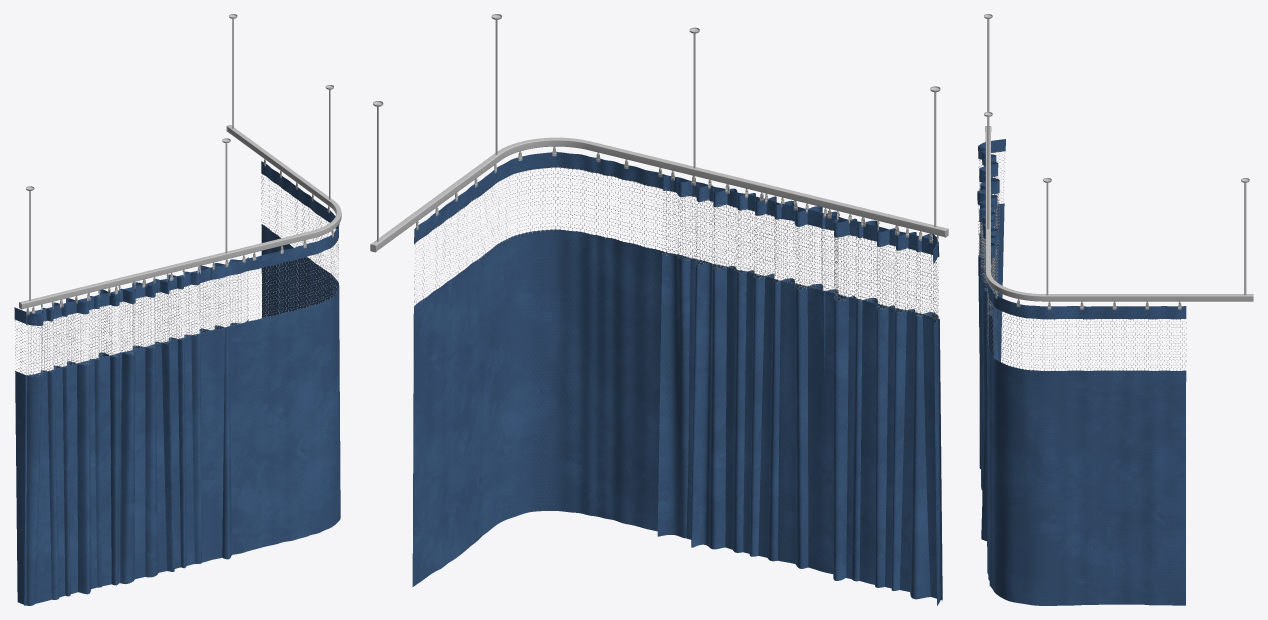
File: FBX_Medical_Curtain_Set.fbx
The picture shows the model from 3 angles, left to right: view 1: azimuth 30°, elevation 25°; view 2: azimuth 150°, elevation 25°; view 3: azimuth 270°, elevation 25°; orthographic projection. The views are drawn at different scales.
Visible parts, largest first — view 1: SM_Medical_Curtain02, SM_Medical_Curtain01, SM_Medical_Curtain_track; view 2: SM_Medical_Curtain02, SM_Medical_Curtain01, SM_Medical_Curtain_track; view 3: SM_Medical_Curtain02, SM_Medical_Curtain01, SM_Medical_Curtain_track.
Boxes of the visible parts, box(x1,y1,x2,y2) form: SM_Medical_Curtain02: box(24, 159, 340, 605); SM_Medical_Curtain01: box(14, 255, 248, 605); SM_Medical_Curtain_track: box(19, 14, 341, 309); SM_Medical_Curtain02: box(412, 146, 942, 600); SM_Medical_Curtain01: box(657, 170, 940, 605); SM_Medical_Curtain_track: box(370, 14, 948, 252); SM_Medical_Curtain02: box(987, 282, 1186, 605); SM_Medical_Curtain01: box(977, 139, 1005, 541); SM_Medical_Curtain_track: box(984, 14, 1253, 301).
Bounding box in the file's own units: 257 × 299 × 176.
